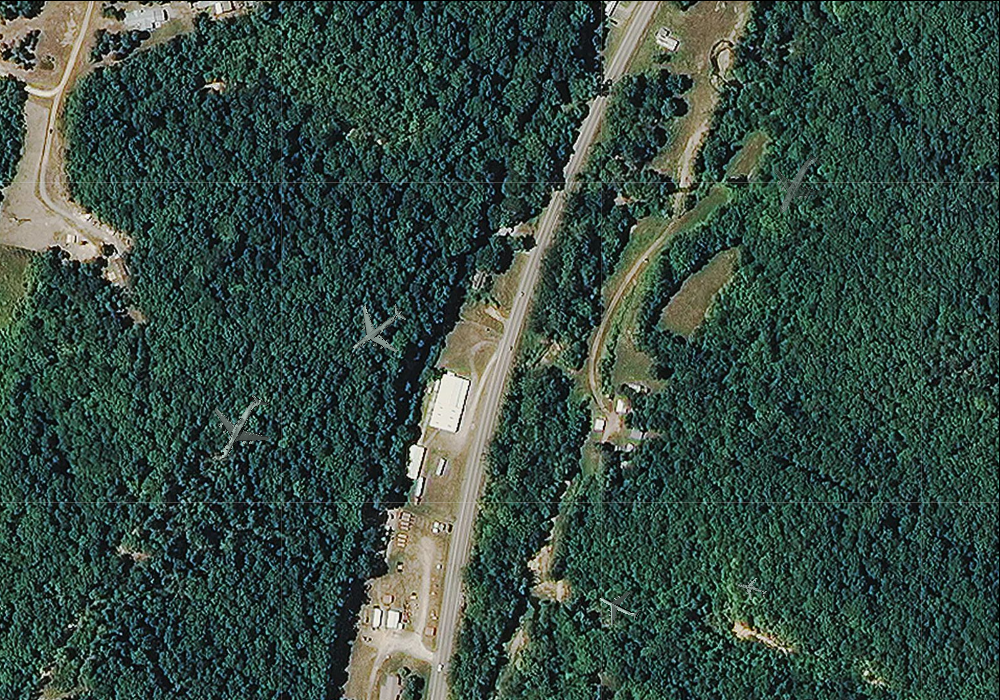plane: (194, 379, 289, 476), (755, 138, 843, 229), (335, 287, 419, 372), (591, 579, 647, 635), (734, 572, 770, 606)
